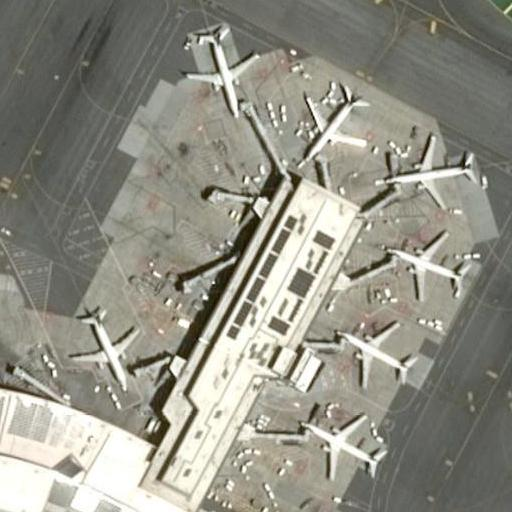Aircraft: (381, 229, 473, 304), (381, 132, 480, 201), (295, 81, 374, 162), (297, 409, 383, 478), (187, 30, 258, 113), (337, 313, 417, 384), (61, 304, 132, 383)
